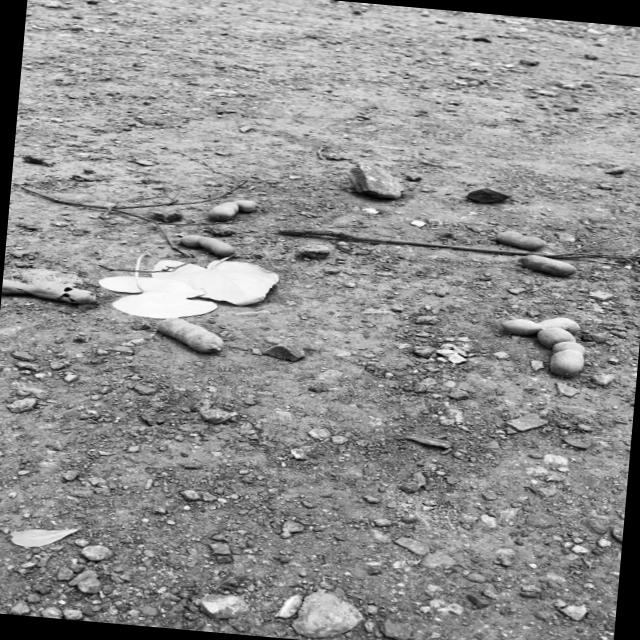tamarind: (152, 313, 226, 357), (538, 329, 586, 376), (497, 314, 583, 336), (172, 226, 235, 256), (516, 248, 578, 278), (206, 196, 256, 227), (494, 228, 548, 250)
